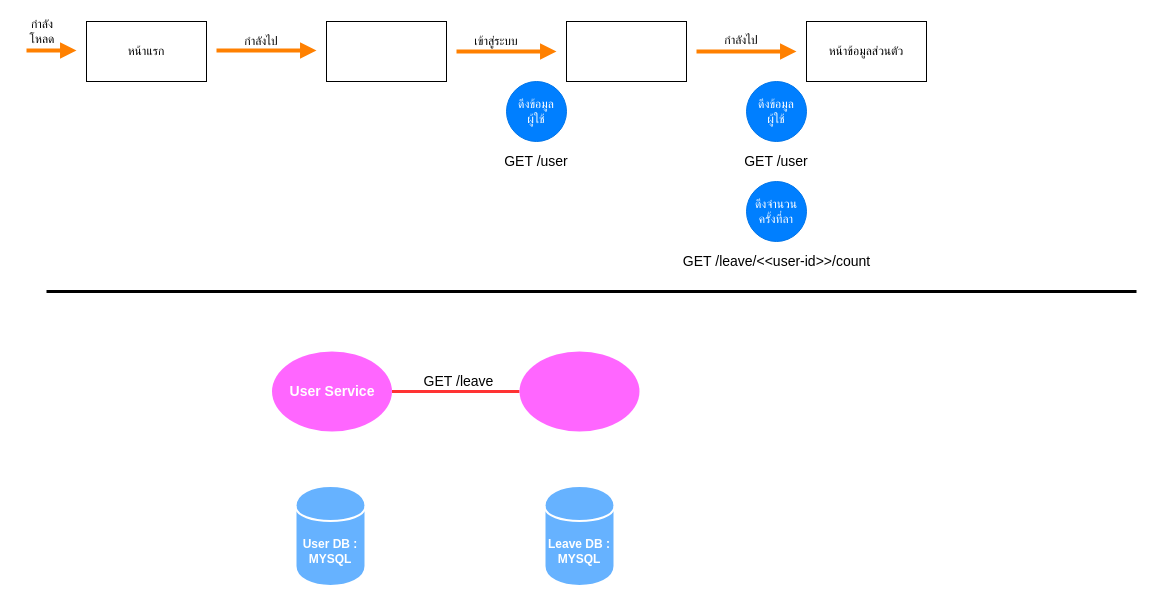
This 1156x604 diagram has some shape labels left out. Here are the shapes that lost their labels. From the top down, the box of each, then its label:
(326, 20, 446, 82): หน้าเข้าสู่ระบบ
(566, 20, 686, 82): หน้าเลือก ประเภทการลา
(519, 351, 639, 431): Leave Service
